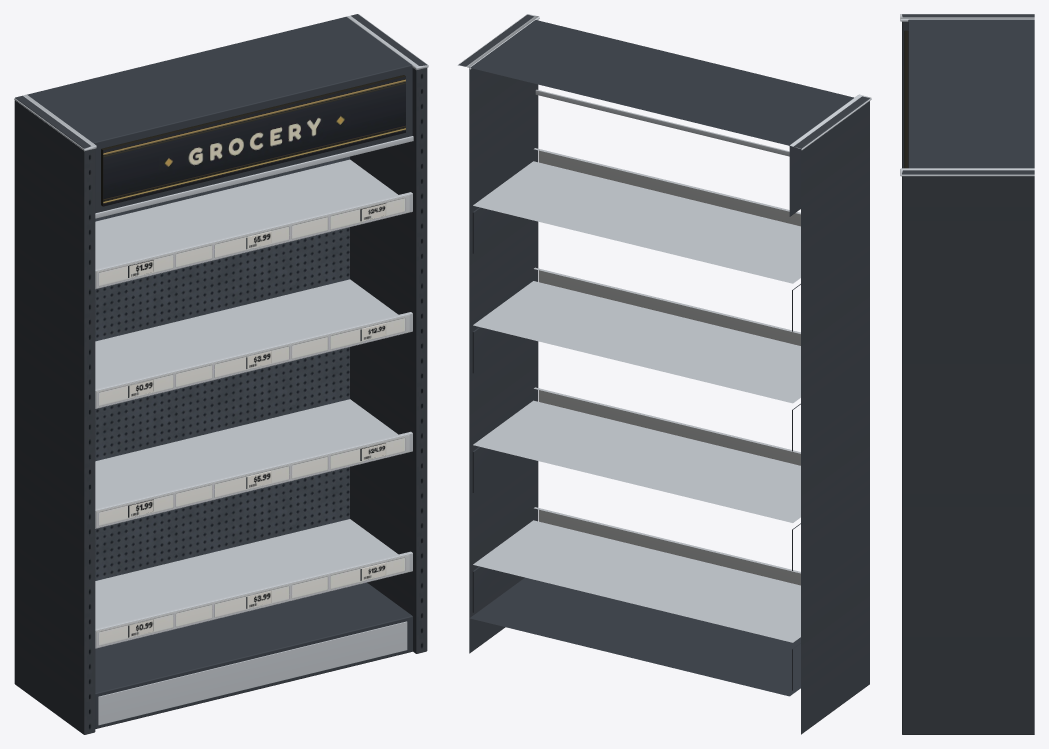
Rendered from vuena-sk-shelf-wall-120.glb.
3 renders of one model, left to right at view 1: azimuth 30°, elevation 25°; view 2: azimuth 150°, elevation 25°; view 3: azimuth 270°, elevation 25°, orthographic. The views are drawn at different scales.
Parts seen in each view (by area): view 1: sk_shelf_wall_120; view 2: sk_shelf_wall_120; view 3: sk_shelf_wall_120.
Part boxes in pixels (<box>): sk_shelf_wall_120: <box>14,14,428,734</box>; sk_shelf_wall_120: <box>457,14,871,734</box>; sk_shelf_wall_120: <box>900,14,1034,734</box>.
Size of the model in its own units: 1.2 by 1.96 by 0.425.
6 materials, 4 textured.
